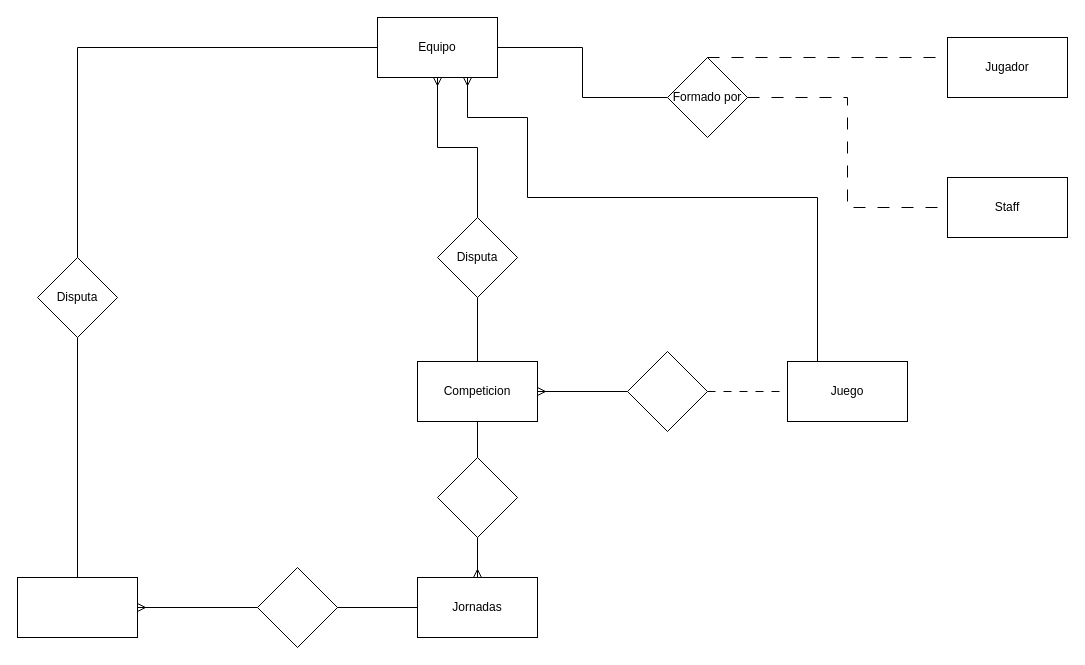
This 1085x665 diagram has some shape labels left out. Each missing label, with the centre of its shape:
"Enfrentamientos" goes at point (77, 607).
"Posee" goes at point (477, 497).
"Se basa en" goes at point (667, 391).
"Tiene" goes at point (297, 607).
